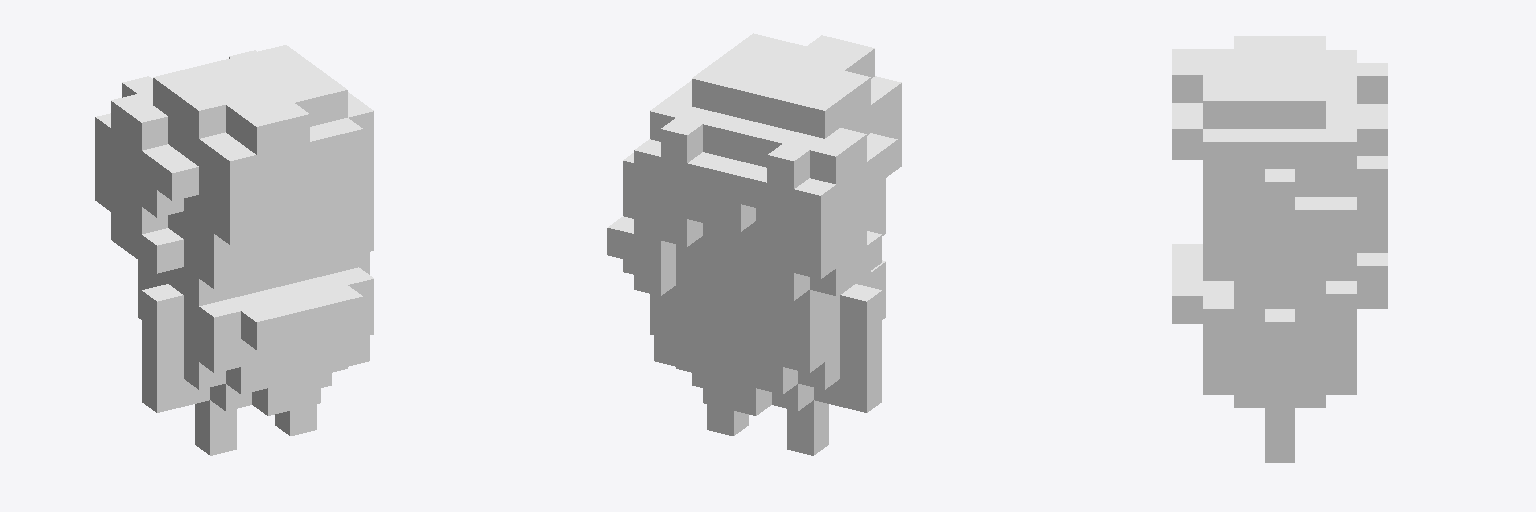
Rendered from chr_femmefatale.obj.
3 renders of one model, left to right at view 1: azimuth 30°, elevation 25°; view 2: azimuth 150°, elevation 25°; view 3: azimuth 270°, elevation 25°, orthographic.
Visible parts, largest first — view 1: chr_femmefatale; view 2: chr_femmefatale; view 3: chr_femmefatale.
Part boxes in pixels (left/top/right/bottom): chr_femmefatale: left=95, top=45, right=373, bottom=455; chr_femmefatale: left=607, top=33, right=901, bottom=455; chr_femmefatale: left=1172, top=36, right=1387, bottom=462.
Bounding box in the file's own units: 8 × 13 × 7.